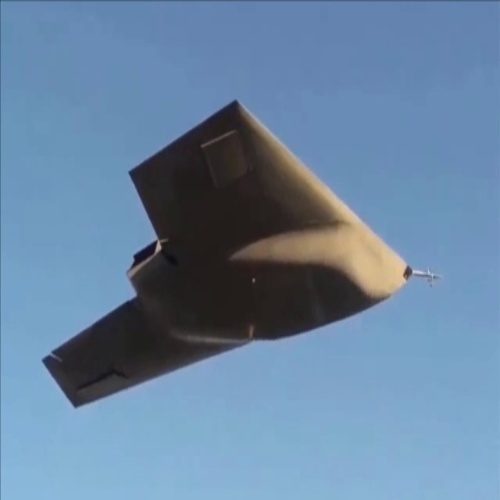uav929: (39, 98, 444, 410)
